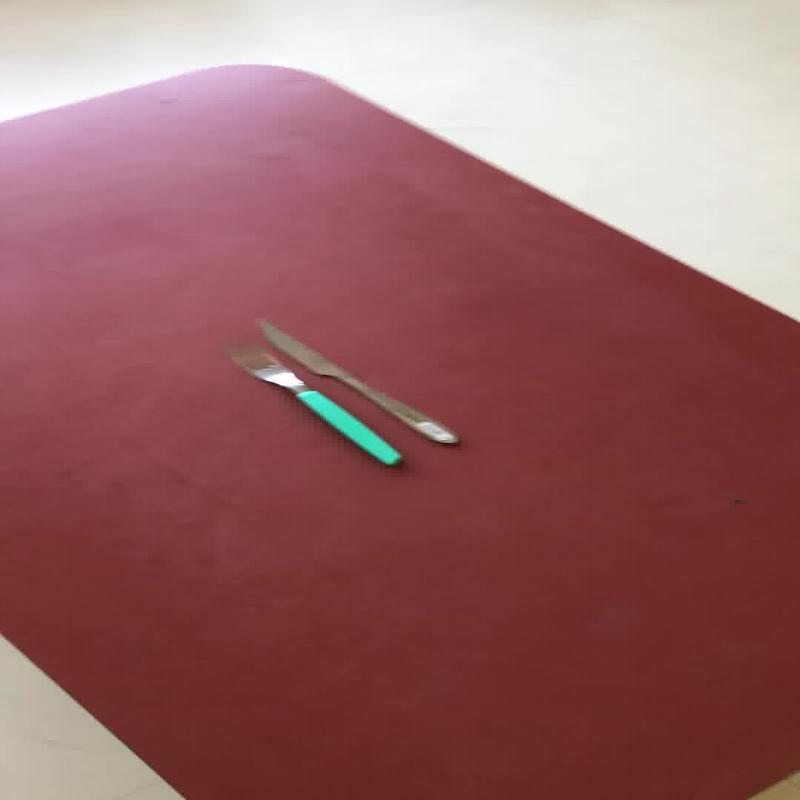fork: (254, 316, 459, 444), (223, 345, 402, 467)
knife: (254, 316, 459, 445), (223, 344, 402, 466)
